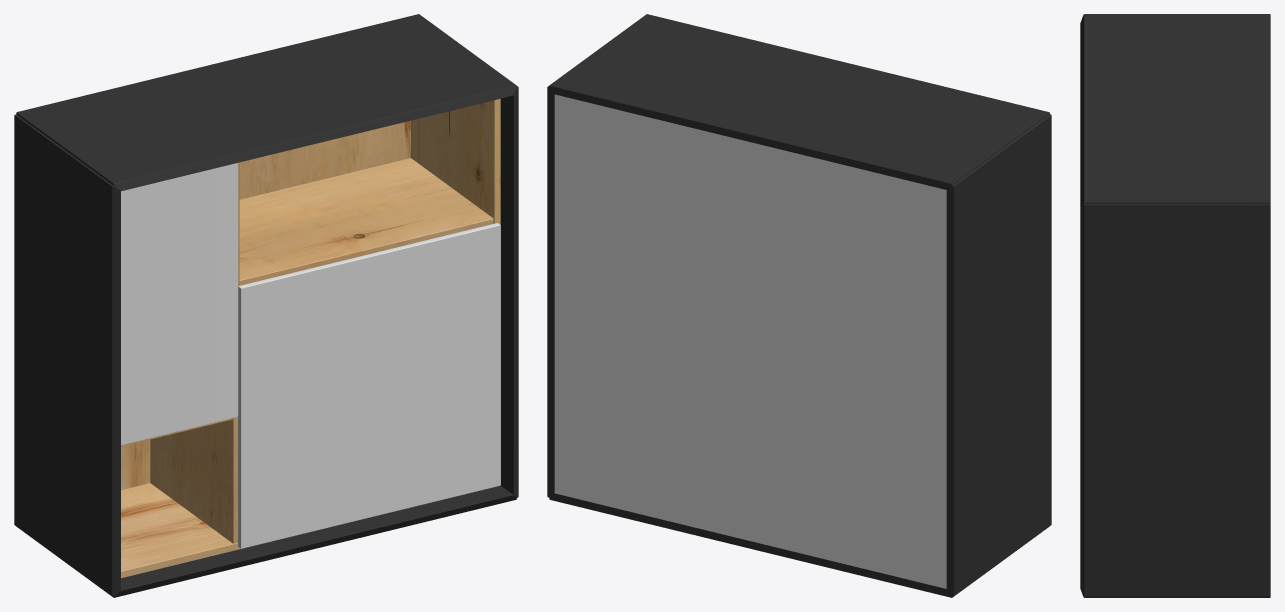
The model's file is little_cabinet.glb.
3 views of the same model, side by side, from view 1: azimuth 30°, elevation 25°; view 2: azimuth 150°, elevation 25°; view 3: azimuth 270°, elevation 25° (orthographic). The views are drawn at different scales.
Visible parts, largest first — view 1: SM_System_01_A; view 2: SM_System_01_A; view 3: SM_System_01_A.
Boxes of the visible parts, bbox=[...] form: SM_System_01_A: bbox=[14, 14, 518, 597]; SM_System_01_A: bbox=[547, 14, 1051, 597]; SM_System_01_A: bbox=[1080, 14, 1270, 597].
Size of the model in its own units: 0.807 by 0.7855 by 0.3417.
3 materials, 1 textured.
